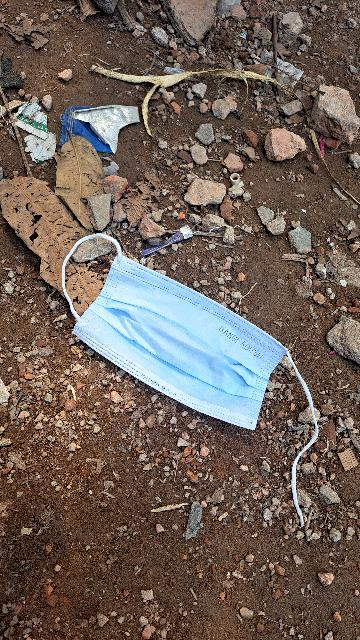mask: (63, 246, 305, 436)
